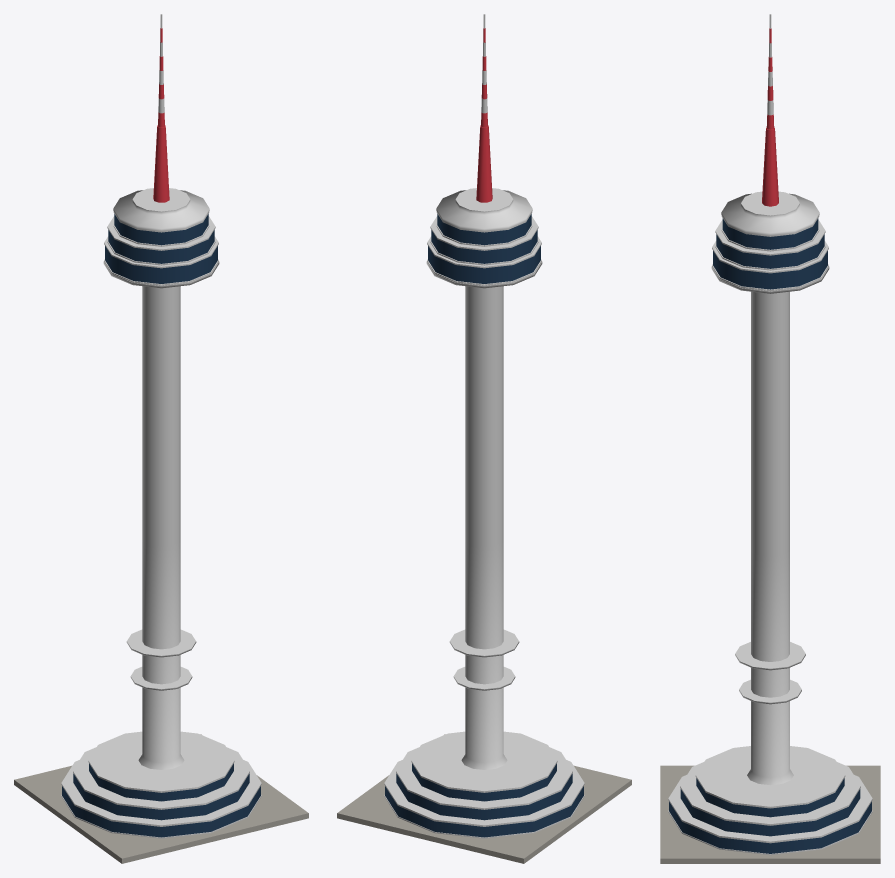
The model's file is far.fbx.
3 renders of one model, left to right at view 1: azimuth 30°, elevation 25°; view 2: azimuth 150°, elevation 25°; view 3: azimuth 270°, elevation 25°, orthographic. The views are drawn at different scales.
Visible parts, largest first — view 1: landmark-great_tower/0/far; view 2: landmark-great_tower/0/far; view 3: landmark-great_tower/0/far.
Part boxes in pixels (x1,y1,x2,y2): landmark-great_tower/0/far: (14,14,308,863); landmark-great_tower/0/far: (337,14,631,863); landmark-great_tower/0/far: (660,14,880,863).
Bounding box in the file's own units: 56 × 226 × 56.
